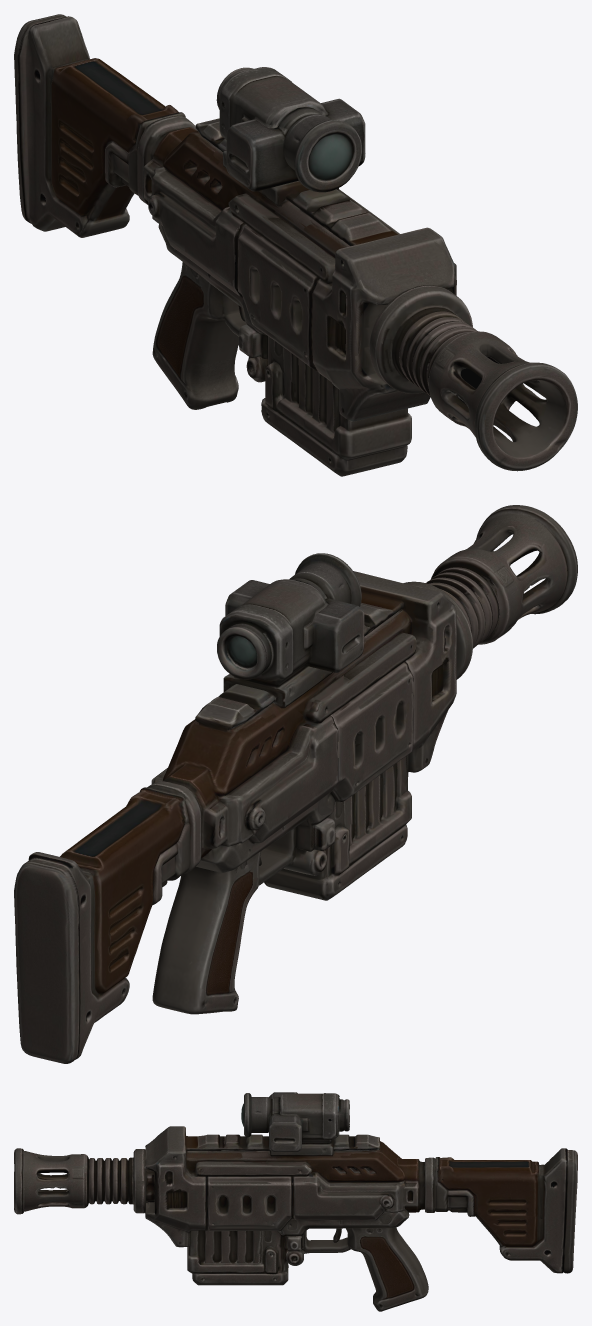
Rendered from carbine.glb.
3 views of the same model, one above another, from view 1: azimuth 30°, elevation 25°; view 2: azimuth 150°, elevation 25°; view 3: azimuth 270°, elevation 25° (orthographic). The views are drawn at different scales.
Size of the model in its own units: 0.1372 by 0.414 by 1.
Materials: 1 (1 with a texture image).
